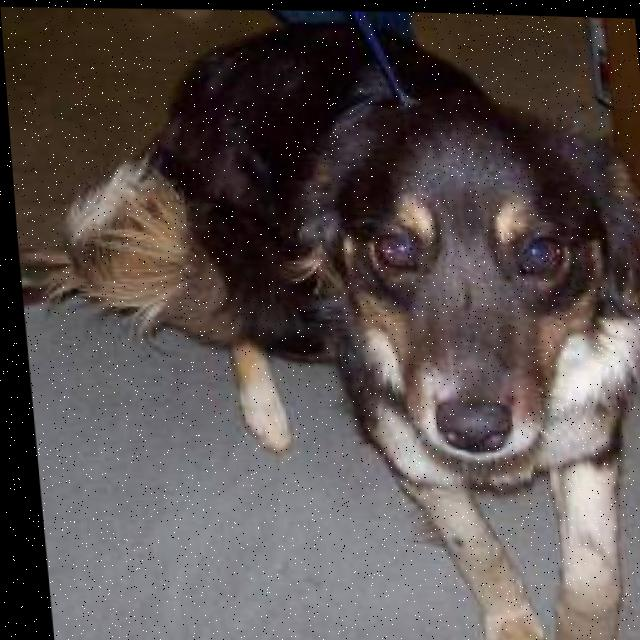dogs: (88, 2, 640, 640)
